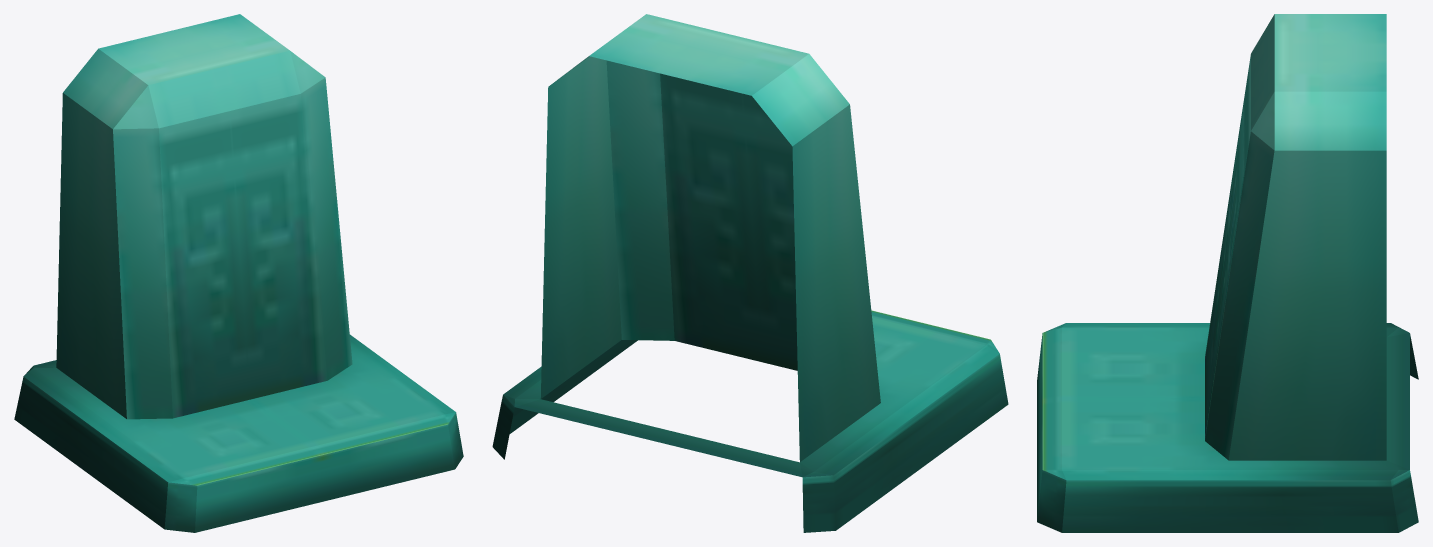
Rendered from obj_grave1 (merge).fbx.
3 renders of one model, left to right at view 1: azimuth 30°, elevation 25°; view 2: azimuth 150°, elevation 25°; view 3: azimuth 270°, elevation 25°, orthographic. The views are drawn at different scales.
Parts seen in each view (by area): view 1: obj_grave1; view 2: obj_grave1; view 3: obj_grave1.
Boxes of the visible parts, x1,y1,x2,y2 form: obj_grave1: (14, 14, 463, 532); obj_grave1: (492, 14, 1008, 532); obj_grave1: (1037, 14, 1418, 532).
Bounding box in the file's own units: 0.9224 × 1.05 × 0.9099.
